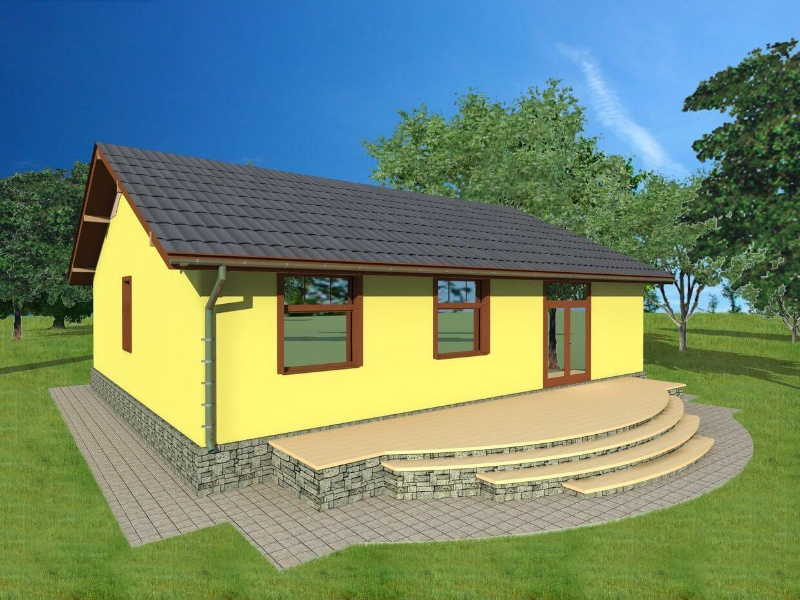window: (275, 264, 366, 377), (431, 269, 493, 356)
